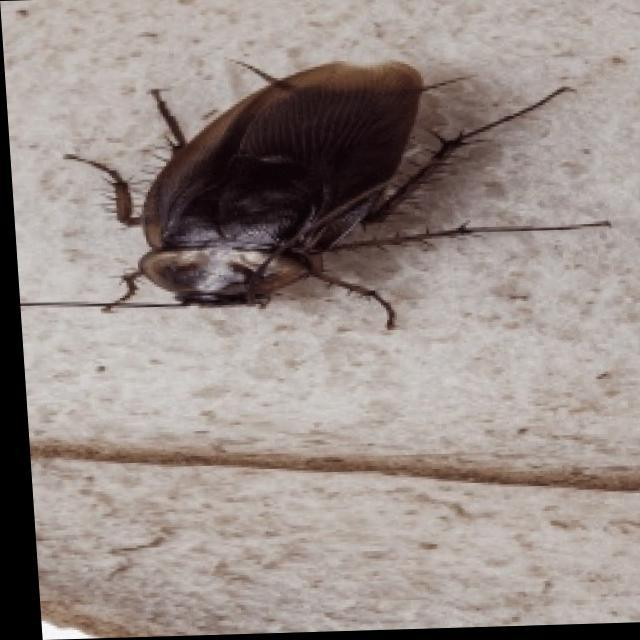cockroach: (60, 53, 614, 333)
